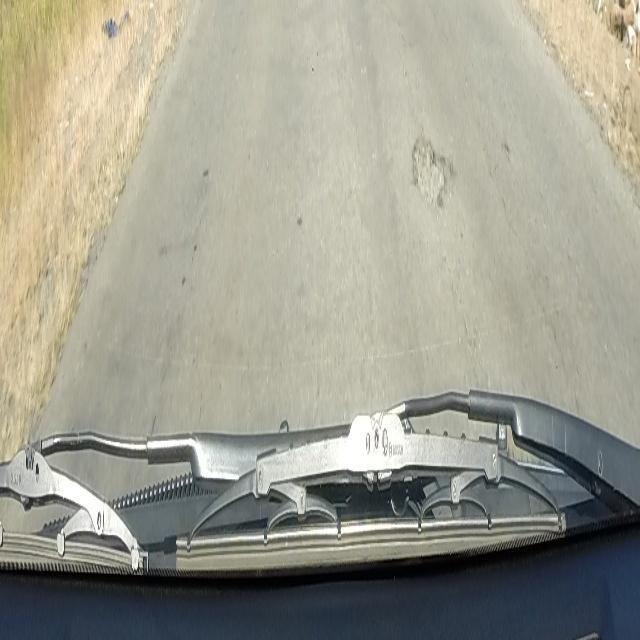pothole: (409, 122, 458, 218)
